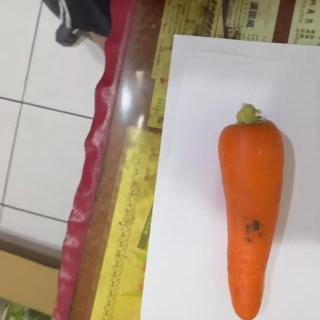carrot: (217, 100, 287, 320)
